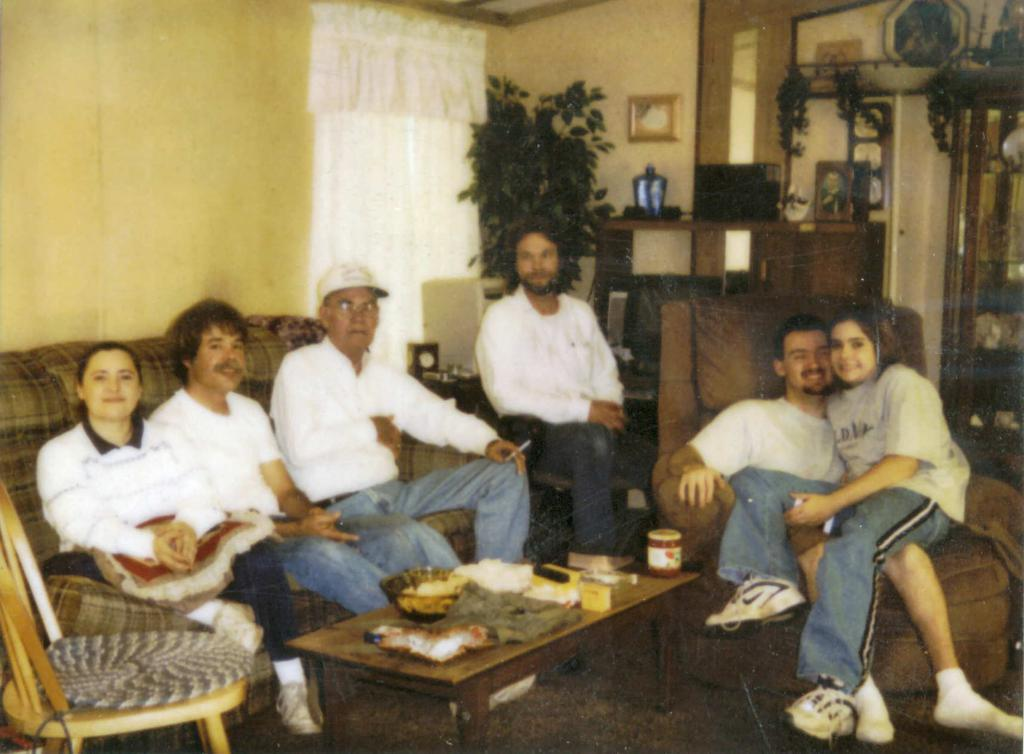Chair: (0, 553, 305, 737)
